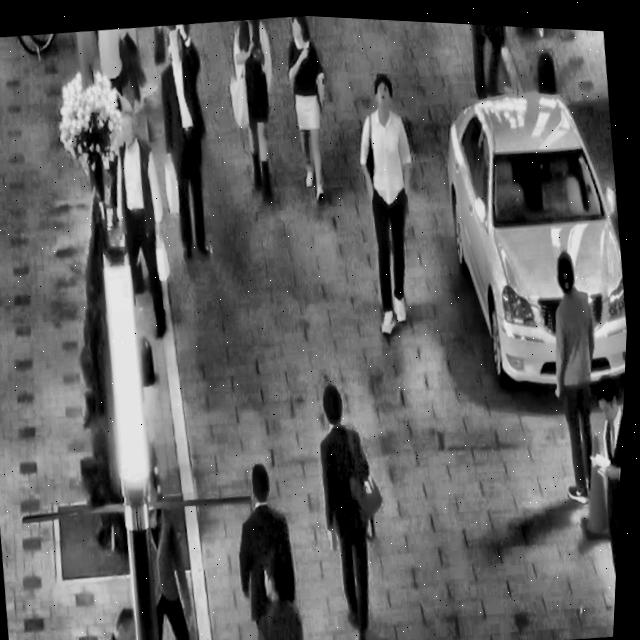light_vehicle: (424, 54, 639, 404)
